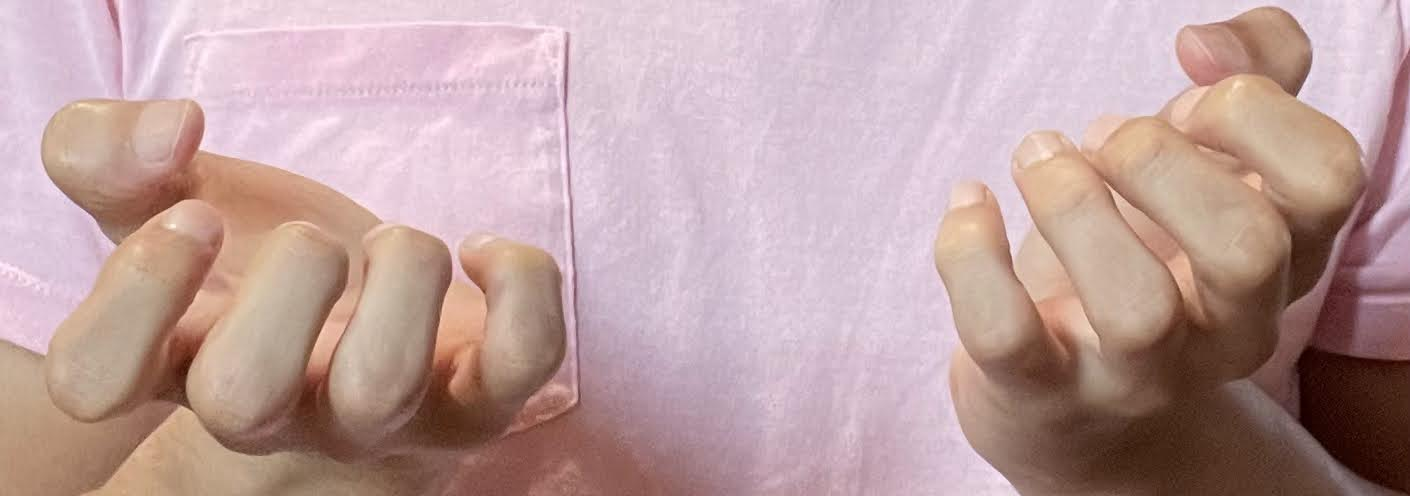want: (37, 6, 1375, 485)
